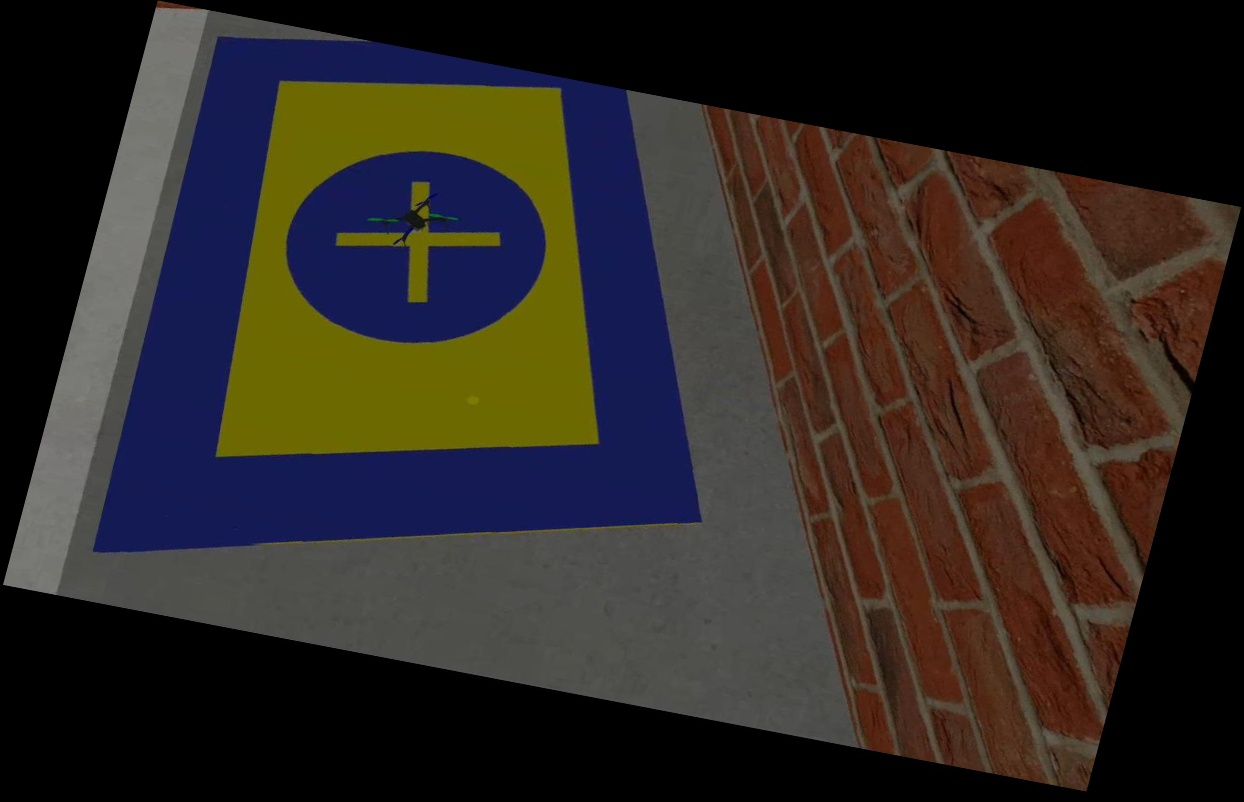large_base: (83, 13, 808, 664)
